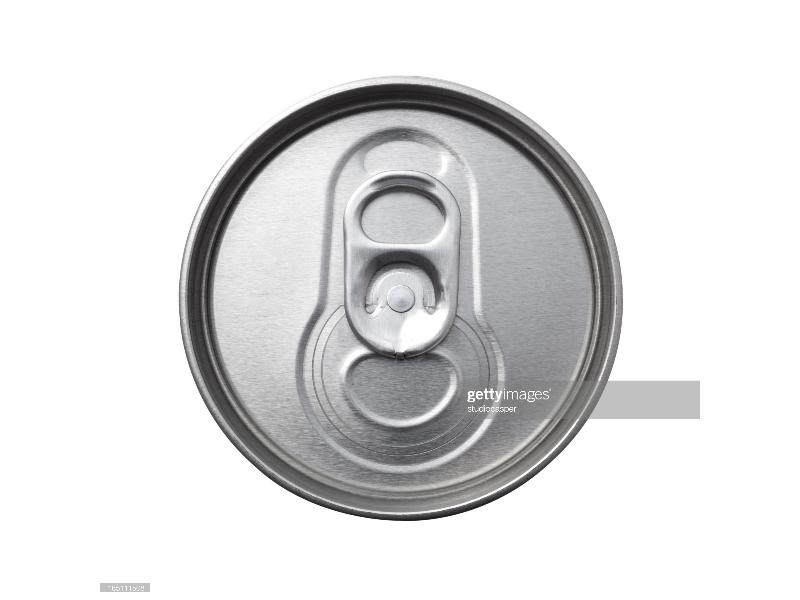can: (182, 76, 616, 514)
